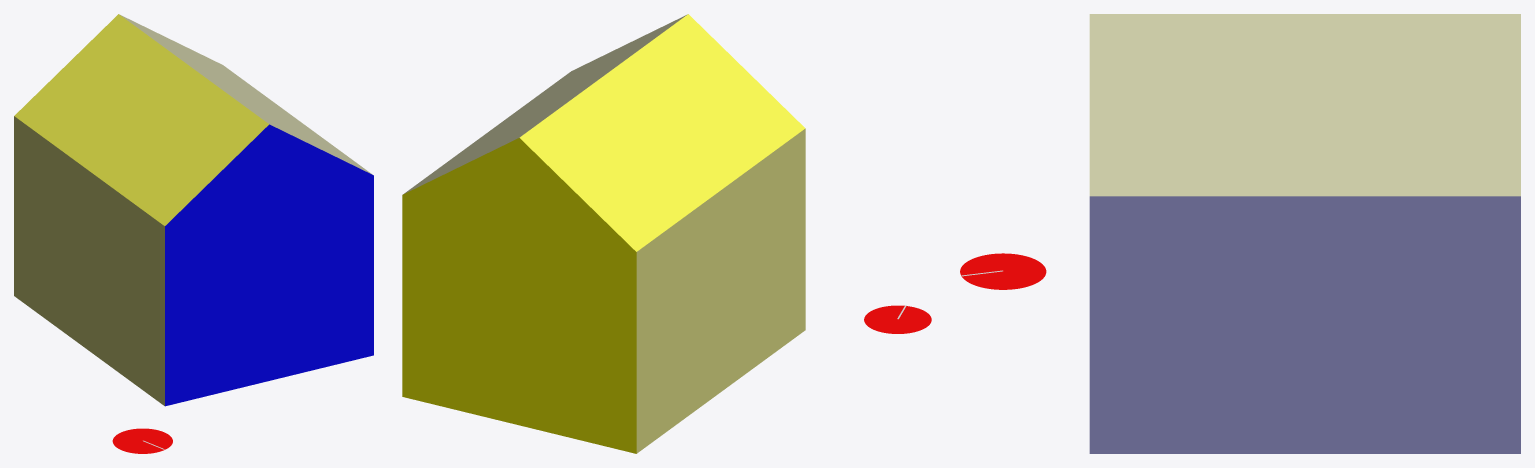
Rendered from result.glb.
3 renders of one model, left to right at view 1: azimuth 30°, elevation 25°; view 2: azimuth 150°, elevation 25°; view 3: azimuth 270°, elevation 25°, orthographic. The views are drawn at different scales.
Parts seen in each view (by area): view 1: 73460c85-8569-4f9b-b40e-9512d3b19dd5__undefined, 47b49d0d-a0f9-4f6f-9e29-c01ddf4509a1__undefined, 99d9605d-82dd-4d66-adf1-f427963adbd6__undefined, 5ac332bb-cb31-4370-b914-87a3c786af85__undefined, a6bd7a9b-14d3-4e53-b24c-07a89f112636__Circle; view 2: 7b21bc0d-63df-4340-9791-107f454ff6b0__undefined, 47b49d0d-a0f9-4f6f-9e29-c01ddf4509a1__undefined, 99d9605d-82dd-4d66-adf1-f427963adbd6__undefined, 5ac332bb-cb31-4370-b914-87a3c786af85__undefined, a6bd7a9b-14d3-4e53-b24c-07a89f112636__Circle; view 3: 2f07c98f-76cc-42c4-9f1f-187e5d426a40__undefined, 5ac332bb-cb31-4370-b914-87a3c786af85__undefined, a6bd7a9b-14d3-4e53-b24c-07a89f112636__Circle.
Boxes of the visible parts, box(x1,y1,x2,y2) form: 73460c85-8569-4f9b-b40e-9512d3b19dd5__undefined: box(165, 124, 373, 406); 47b49d0d-a0f9-4f6f-9e29-c01ddf4509a1__undefined: box(14, 116, 164, 405); 99d9605d-82dd-4d66-adf1-f427963adbd6__undefined: box(14, 14, 268, 225); 5ac332bb-cb31-4370-b914-87a3c786af85__undefined: box(119, 14, 372, 174); a6bd7a9b-14d3-4e53-b24c-07a89f112636__Circle: box(112, 428, 172, 453); 7b21bc0d-63df-4340-9791-107f454ff6b0__undefined: box(402, 138, 636, 453); 47b49d0d-a0f9-4f6f-9e29-c01ddf4509a1__undefined: box(636, 128, 805, 453); 99d9605d-82dd-4d66-adf1-f427963adbd6__undefined: box(519, 14, 805, 251); 5ac332bb-cb31-4370-b914-87a3c786af85__undefined: box(403, 14, 687, 194); a6bd7a9b-14d3-4e53-b24c-07a89f112636__Circle: box(864, 305, 931, 333); 2f07c98f-76cc-42c4-9f1f-187e5d426a40__undefined: box(1089, 196, 1520, 453); 5ac332bb-cb31-4370-b914-87a3c786af85__undefined: box(1089, 14, 1520, 196); a6bd7a9b-14d3-4e53-b24c-07a89f112636__Circle: box(960, 253, 1046, 289).
Size of the model in its own units: 550 by 469 by 650.
